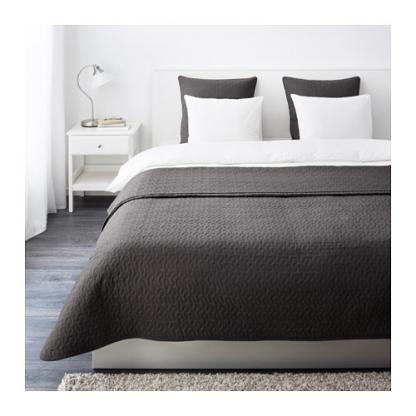Bed: (90, 64, 391, 376)
